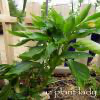Bell_pepper leaf: (67, 59, 91, 88), (7, 59, 40, 74), (75, 39, 99, 56), (41, 43, 58, 63), (27, 30, 53, 43), (19, 46, 46, 58), (49, 4, 65, 24), (60, 51, 95, 60), (7, 29, 35, 40), (78, 3, 90, 25), (64, 18, 77, 37), (49, 26, 65, 40), (5, 40, 33, 47)
